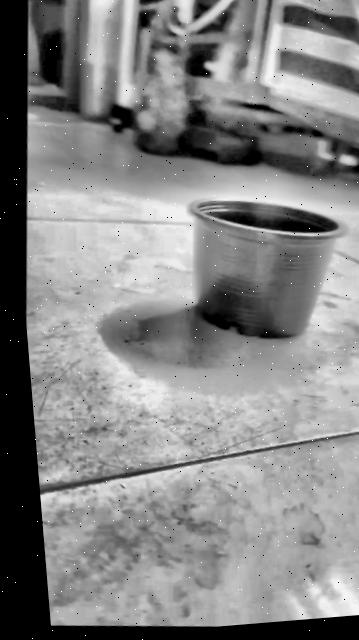pot: (176, 186, 355, 352)
